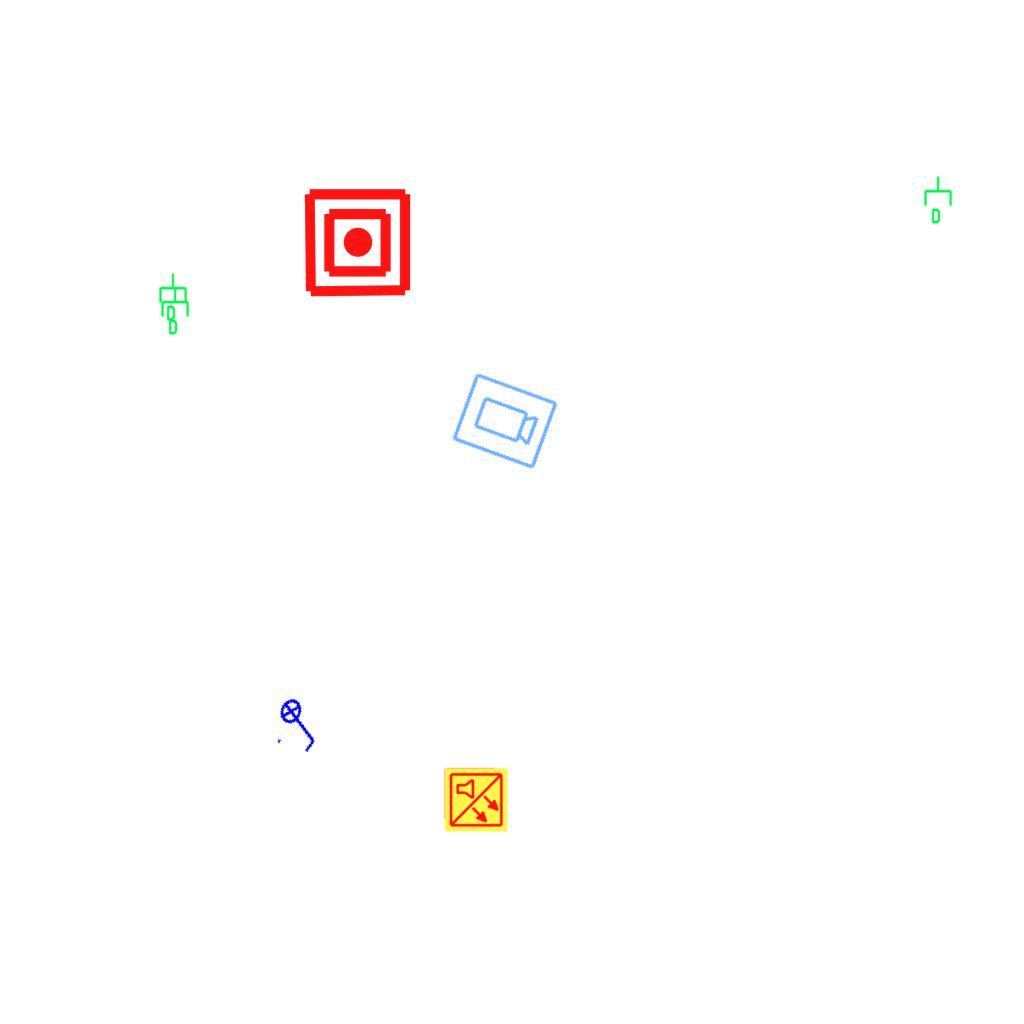Ausschalter_beleuchtet: (267, 689, 333, 759)
Datenanschluss_einfach: (157, 272, 191, 322), (922, 175, 956, 225), (159, 286, 193, 336)
KFO_Kamera_mit_Festobjektiv: (448, 369, 561, 474)
NAM-Nichtautomatischer_Melder: (301, 186, 414, 299)
OKW_Multisensormelder_(Kombination_optischer_Rauch-Kahlenmonoxid_Waerme-Melder): (443, 767, 509, 833)
